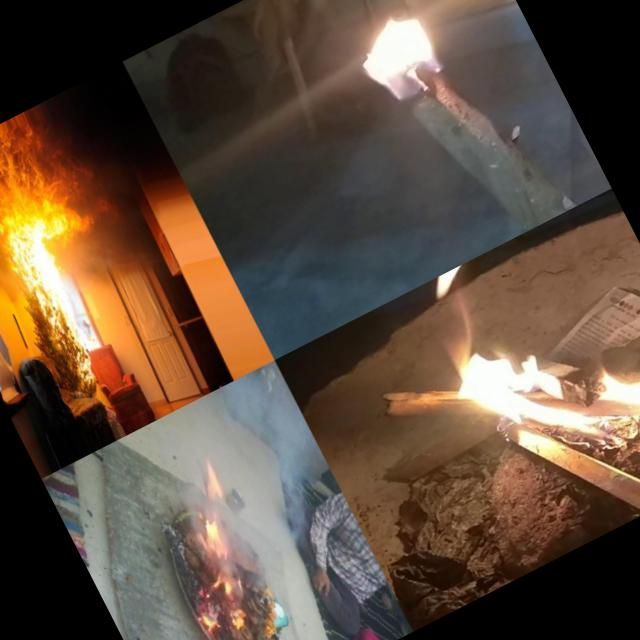fire: (394, 188, 640, 513), (319, 0, 488, 138), (0, 106, 120, 267), (12, 247, 115, 394), (164, 456, 256, 564), (209, 566, 244, 606), (193, 607, 226, 638), (223, 603, 256, 634)
smoke: (188, 360, 344, 539), (50, 202, 164, 300), (225, 516, 328, 596), (0, 219, 26, 311)
